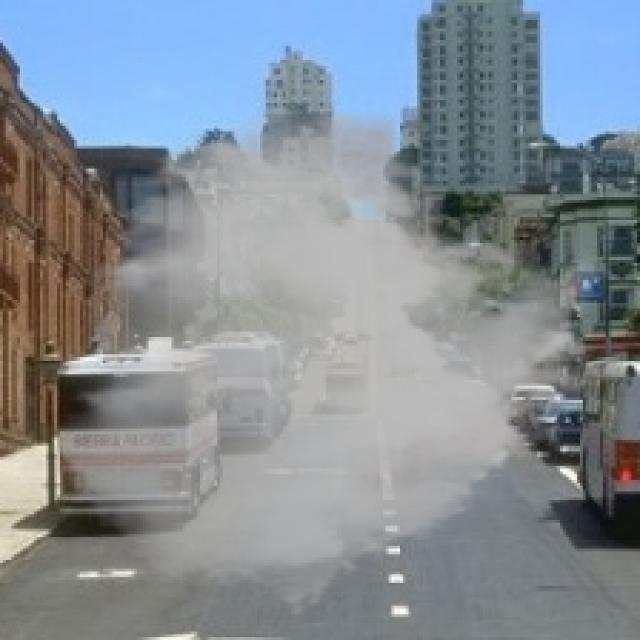smoke: (55, 103, 614, 617)
